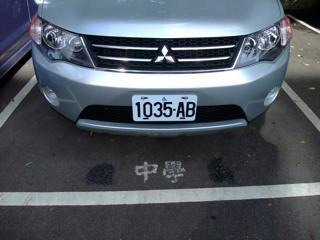plate: (129, 93, 198, 123)
